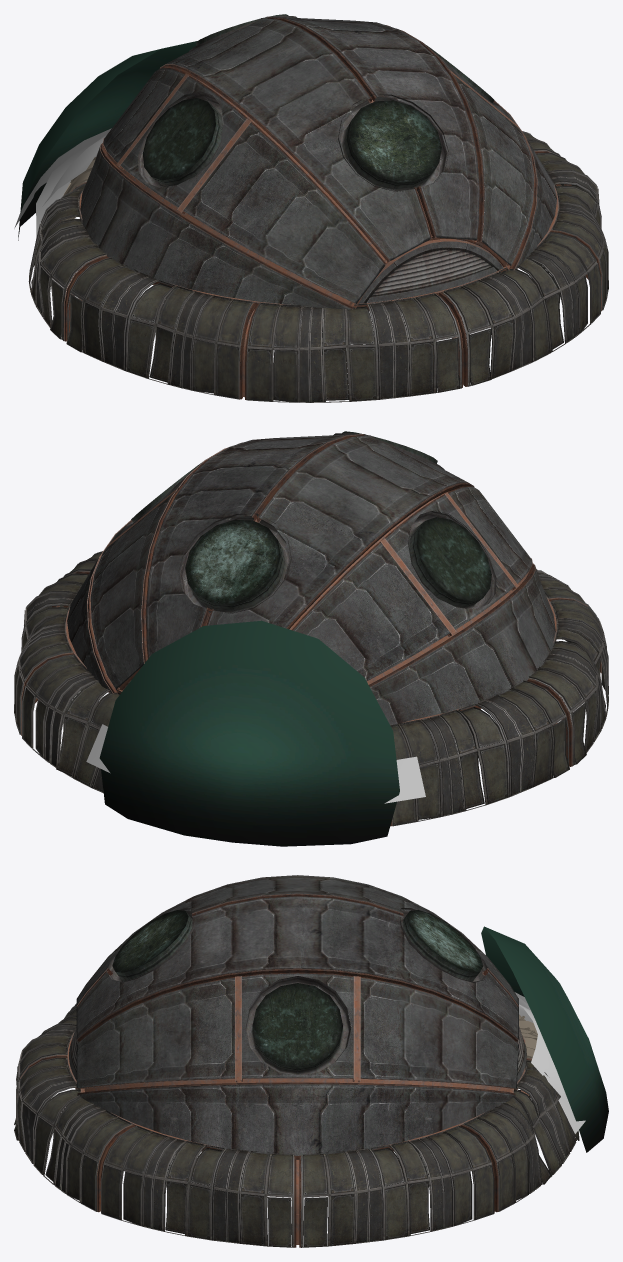
Rendered from 01_02_comm_room_roof_pplant_buckled.dae.
The picture shows the model from 3 angles, top to bottom: view 1: azimuth 30°, elevation 25°; view 2: azimuth 150°, elevation 25°; view 3: azimuth 270°, elevation 25°; orthographic projection. The views are drawn at different scales.
Visible parts, largest first — view 1: top_plates_low_windows, buckled1, windows, top_girders_windows, outside, girders, alpha_bits; view 2: top_plates_low_windows, outside, buckled1, windows, top_girders_windows, alpha_bits, girders; view 3: top_plates_low_windows, buckled1, windows, outside, top_girders_windows, girders, alpha_bits, hole1.
Boxes of the visible parts, x1=… form: top_plates_low_windows: x1=80, y1=16, x2=556, y2=309; buckled1: x1=28, y1=131, x2=608, y2=402; windows: x1=137, y1=14, x2=497, y2=191; top_girders_windows: x1=100, y1=16, x2=537, y2=309; outside: x1=18, y1=41, x2=197, y2=240; girders: x1=58, y1=150, x2=601, y2=399; alpha_bits: x1=14, y1=128, x2=111, y2=237; top_plates_low_windows: x1=67, y1=434, x2=555, y2=725; outside: x1=99, y1=620, x2=399, y2=846; buckled1: x1=14, y1=551, x2=608, y2=826; windows: x1=127, y1=431, x2=496, y2=613; top_girders_windows: x1=87, y1=434, x2=535, y2=693; alpha_bits: x1=86, y1=724, x2=425, y2=803; girders: x1=21, y1=571, x2=601, y2=826; top_plates_low_windows: x1=69, y1=875, x2=526, y2=1155; buckled1: x1=14, y1=1003, x2=579, y2=1247; windows: x1=106, y1=908, x2=489, y2=1075; outside: x1=481, y1=926, x2=608, y2=1152; top_girders_windows: x1=77, y1=893, x2=518, y2=1095; girders: x1=17, y1=1033, x2=531, y2=1247; alpha_bits: x1=515, y1=992, x2=585, y2=1133; hole1: x1=519, y1=1014, x2=537, y2=1058.
Bounding box in the file's own units: 15.91 × 7.3 × 16.68.
